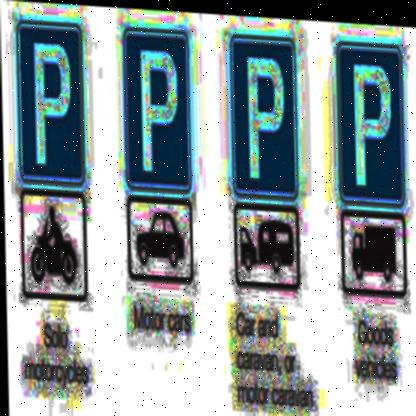Parking: (334, 31, 405, 208), (229, 29, 300, 200), (119, 28, 192, 190), (19, 20, 85, 189)
